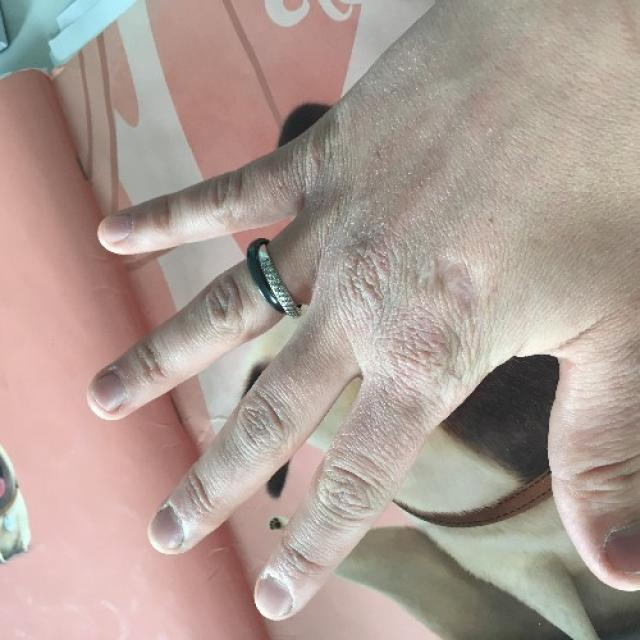paper: (87, 144, 640, 622)
